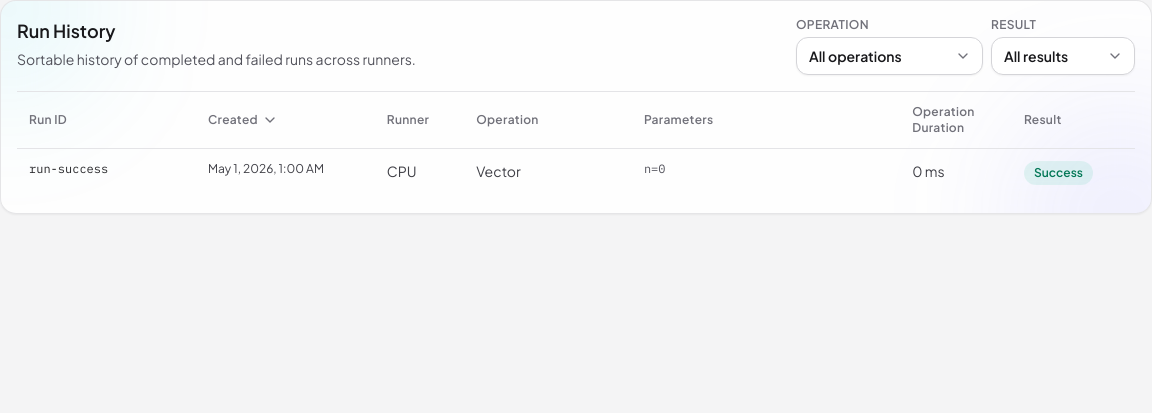
Test: RunHistoryView › shows an empty filtered state when filters match no runs
Select "Failed" in the dropdown labelled "Result" at (1063, 56), box [991,37,1135,75]
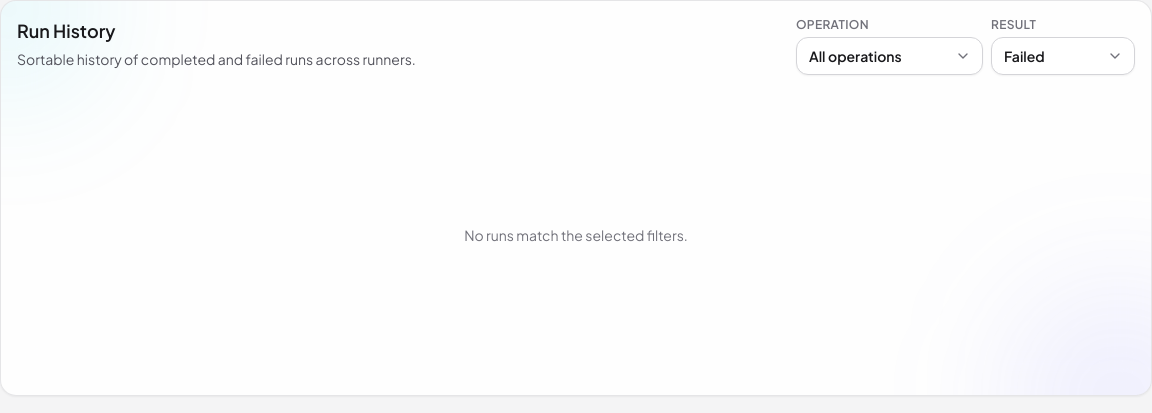
Now the text "No runs match the selected filters." is shown, box [464,226,688,244]
